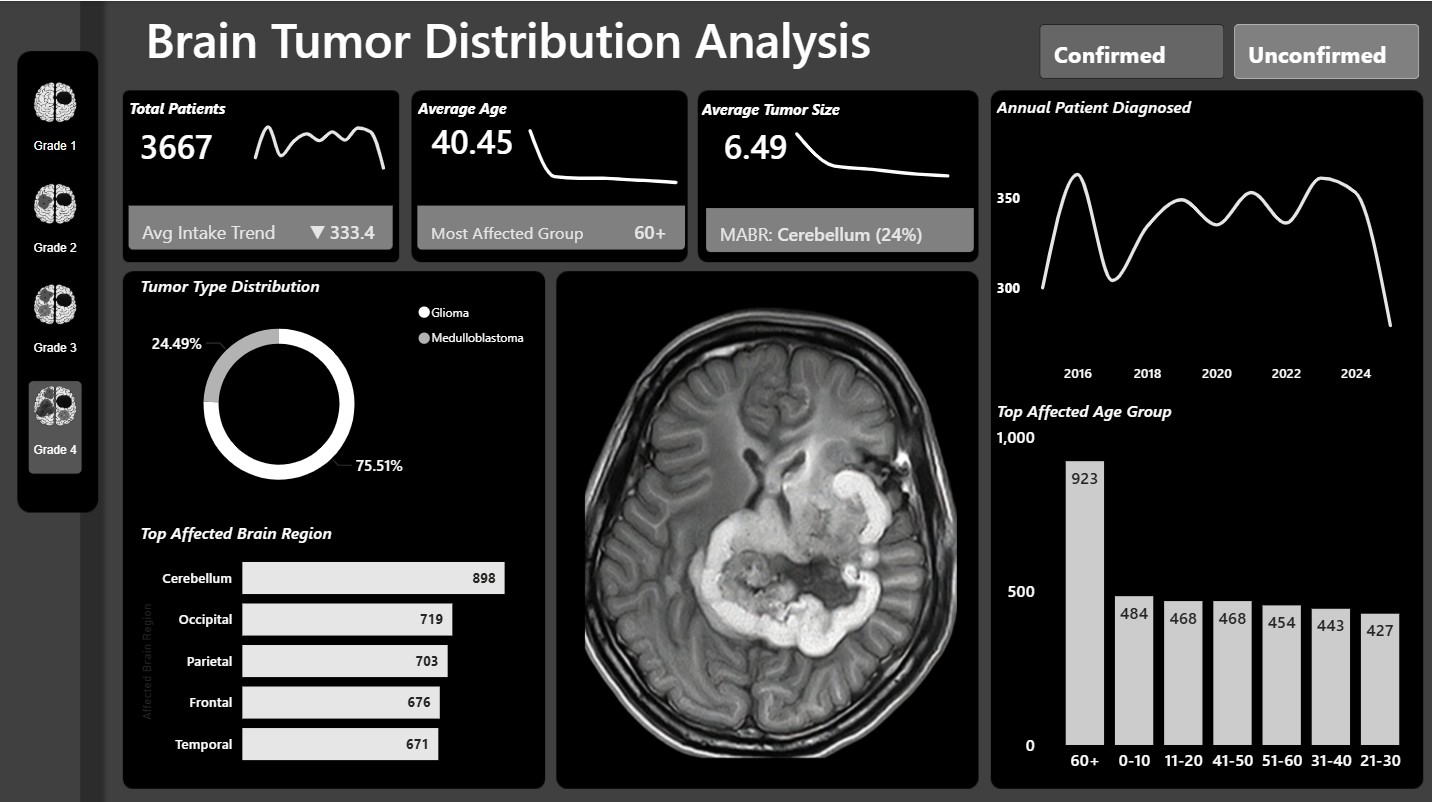

Layout of this report page (visuals, bound fields, positions):
{"tool":"powerbi","page":{"name":"BTDA","canvas":[1280,720],"ordinal":0},"visuals":[{"type":"cardVisual","fields":{"Data":["Count(Brain Tumor Data.Patient ID)"]},"box":[96.1,79.6,155.1,96.1],"z":0},{"type":"lineChart","fields":{"Category":["Brain Tumor Data.Date of Diagnosis.Variation.Date Hierarchy.Year"],"Y":["CountNonNull(Brain Tumor Data.Patient ID)"]},"box":[212.7,82.3,144.1,85.1],"z":1000},{"type":"cardVisual","fields":{"Data":["Count(Brain Tumor Data.Patient ID)"]},"box":[86,90.7,293,160.5],"z":2000},{"type":"textbox","box":[109.8,81,166,32.9],"z":3000},{"type":"cardVisual","fields":{"Data":["Avg(Brain Tumor Data.Age)"]},"box":[355.4,74.1,149.6,96.1],"z":4000},{"type":"textbox","box":[367.8,81,102.9,34.3],"z":5000},{"type":"cardVisual","fields":{"Data":["Count(Brain Tumor Data.Patient ID)"]},"box":[343.1,90.6,296.4,160.5],"z":6000},{"type":"lineChart","fields":{"Y":["CountNonNull(Brain Tumor Data.Patient ID)"],"Category":["Brain Tumor Data.Age Group"]},"box":[458.6,94.3,157.1,75.7],"z":7000},{"type":"cardVisual","fields":{"Data":["Count(Brain Tumor Data.Patient ID)"]},"box":[599.7,91.9,296.4,160.5],"z":8000},{"type":"cardVisual","fields":{"Data":["Avg(Brain Tumor Data.Tumor Size (cm))"]},"box":[615.7,85.7,121.4,84.3],"z":9000},{"type":"textbox","box":[620,82.9,142.9,32.9],"z":10000},{"type":"lineChart","fields":{"Category":["Brain Tumor Data.Affected Brain Region"],"Y":["Sum(Brain Tumor Data.Tumor Size (cm))"]},"box":[691.4,100,171.4,70],"z":11000},{"type":"advancedSlicerVisual","fields":{"Values":["Brain Tumor Data.Histology Confirmation"]},"box":[920.8,15.1,348.5,59],"z":12000},{"type":"ChicletSlicer1448559807354","fields":{"Category":["Tumor Images.Tumor Grade"],"Image":["Tumor Images.Icon URL"]},"box":[16.7,60.1,70.1,399.6],"z":13000},{"type":"imageDB603108E3FF4EBFB8047F5653368E8C","fields":{"imageUrl":["Tumor Images.Image URL"]},"box":[500.9,245.6,371.9,451.5],"z":14000},{"type":"donutChart","fields":{"Category":["Brain Tumor Data.Tumor Type"],"Y":["CountNonNull(Brain Tumor Data.Patient ID)"]},"box":[120.8,260.7,360.9,197.6],"z":15000},{"type":"textbox","box":[120.8,238.8,199,32.9],"z":16000},{"type":"clusteredBarChart","fields":{"Category":["Brain Tumor Data.Affected Brain Region"],"Y":["CountNonNull(Brain Tumor Data.Patient ID)"]},"box":[120.8,472,360.9,225],"z":17000},{"type":"textbox","box":[120.8,458.3,203.1,39.8],"z":18000},{"type":"lineChart","fields":{"Category":["Brain Tumor Data.Date of Diagnosis.Variation.Date Hierarchy.Year"],"Y":["CountNonNull(Brain Tumor Data.Patient ID)"]},"box":[882.3,113.9,374.6,236],"z":19000},{"type":"textbox","box":[882.3,79.6,200.3,38.4],"z":20000},{"type":"clusteredColumnChart","fields":{"Y":["CountNonNull(Brain Tumor Data.Patient ID)"],"Category":["Brain Tumor Data.Age Group"]},"box":[882.3,373.2,387,323.8],"z":21000},{"type":"textbox","box":[882.3,349.9,200.3,34.3],"z":22000},{"type":"textbox","box":[124.9,0,784.9,75.5],"z":23000}]}

Visuals, with their boxes in screenshot pixels (x1, y1, x2, y2), scaled from the page's 1280x720 canvas onto the 1432x802 screenshot:
cardVisual - Count(Brain Tumor Data.Patient ID): x1=108, y1=89, x2=281, y2=196
lineChart - Brain Tumor Data.Date of Diagnosis.Variation.Date Hierarchy.Year x CountNonNull(Brain Tumor Data.Patient ID): x1=238, y1=92, x2=399, y2=186
cardVisual - Count(Brain Tumor Data.Patient ID): x1=96, y1=101, x2=424, y2=280
textbox: x1=123, y1=90, x2=309, y2=127
cardVisual - Avg(Brain Tumor Data.Age): x1=398, y1=83, x2=565, y2=190
textbox: x1=411, y1=90, x2=527, y2=128
cardVisual - Count(Brain Tumor Data.Patient ID): x1=384, y1=101, x2=715, y2=280
lineChart - CountNonNull(Brain Tumor Data.Patient ID) x Brain Tumor Data.Age Group: x1=513, y1=105, x2=689, y2=189
cardVisual - Count(Brain Tumor Data.Patient ID): x1=671, y1=102, x2=1003, y2=281
cardVisual - Avg(Brain Tumor Data.Tumor Size (cm)): x1=689, y1=95, x2=825, y2=189
textbox: x1=694, y1=92, x2=853, y2=129
lineChart - Brain Tumor Data.Affected Brain Region x Sum(Brain Tumor Data.Tumor Size (cm)): x1=774, y1=111, x2=965, y2=189
advancedSlicerVisual - Brain Tumor Data.Histology Confirmation: x1=1030, y1=17, x2=1420, y2=83
ChicletSlicer1448559807354 - Tumor Images.Tumor Grade x Tumor Images.Icon URL: x1=19, y1=67, x2=97, y2=512
imageDB603108E3FF4EBFB8047F5653368E8C - Tumor Images.Image URL: x1=560, y1=274, x2=976, y2=776
donutChart - Brain Tumor Data.Tumor Type x CountNonNull(Brain Tumor Data.Patient ID): x1=135, y1=290, x2=539, y2=510
textbox: x1=135, y1=266, x2=358, y2=303
clusteredBarChart - Brain Tumor Data.Affected Brain Region x CountNonNull(Brain Tumor Data.Patient ID): x1=135, y1=526, x2=539, y2=776
textbox: x1=135, y1=510, x2=362, y2=555
lineChart - Brain Tumor Data.Date of Diagnosis.Variation.Date Hierarchy.Year x CountNonNull(Brain Tumor Data.Patient ID): x1=987, y1=127, x2=1406, y2=390
textbox: x1=987, y1=89, x2=1211, y2=131
clusteredColumnChart - CountNonNull(Brain Tumor Data.Patient ID) x Brain Tumor Data.Age Group: x1=987, y1=416, x2=1420, y2=776
textbox: x1=987, y1=390, x2=1211, y2=428
textbox: x1=140, y1=0, x2=1018, y2=84
